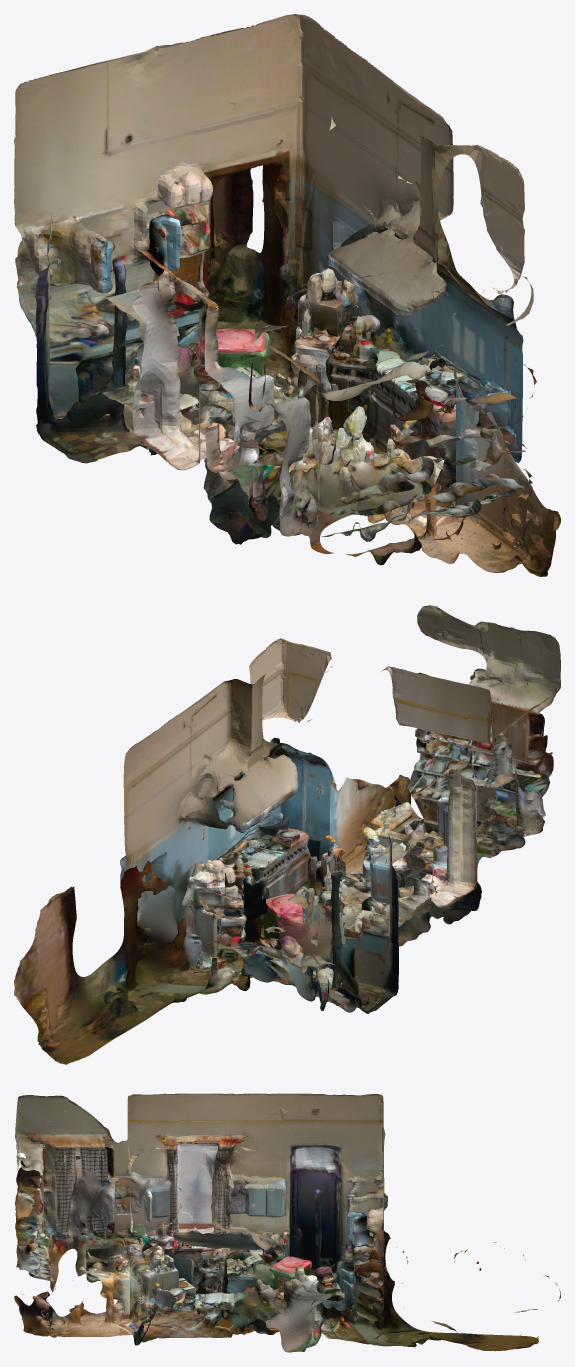
3 renders of one model, top to bottom at view 1: azimuth 30°, elevation 25°; view 2: azimuth 150°, elevation 25°; view 3: azimuth 270°, elevation 25°, orthographic. The views are drawn at different scales.
Bounding box in the file's own units: 4.28 × 3.77 × 10.08.
3 materials, 3 textured.
